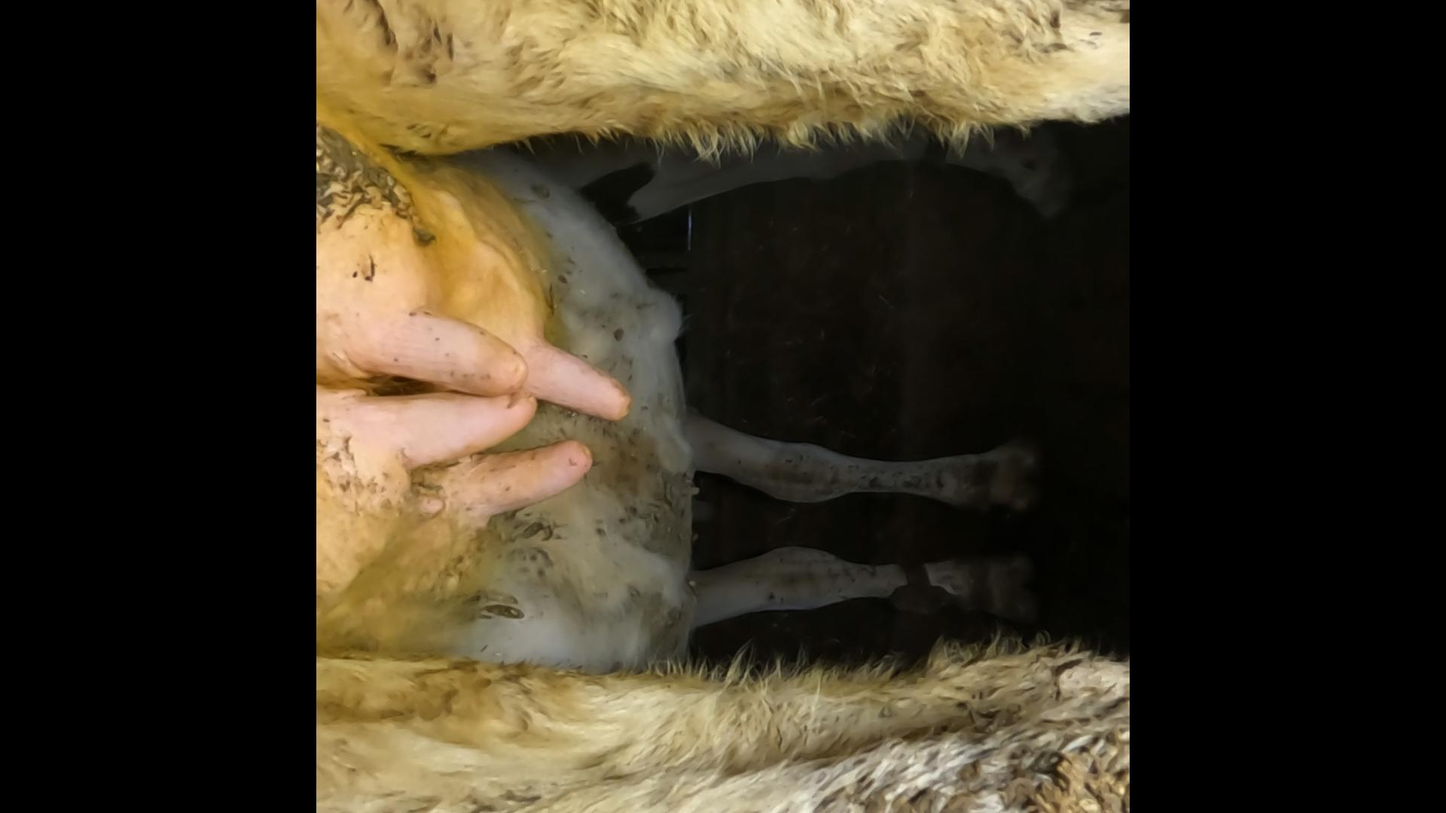Zitze: (379, 376, 550, 486), (378, 310, 531, 399), (477, 434, 599, 521), (489, 352, 649, 411)
